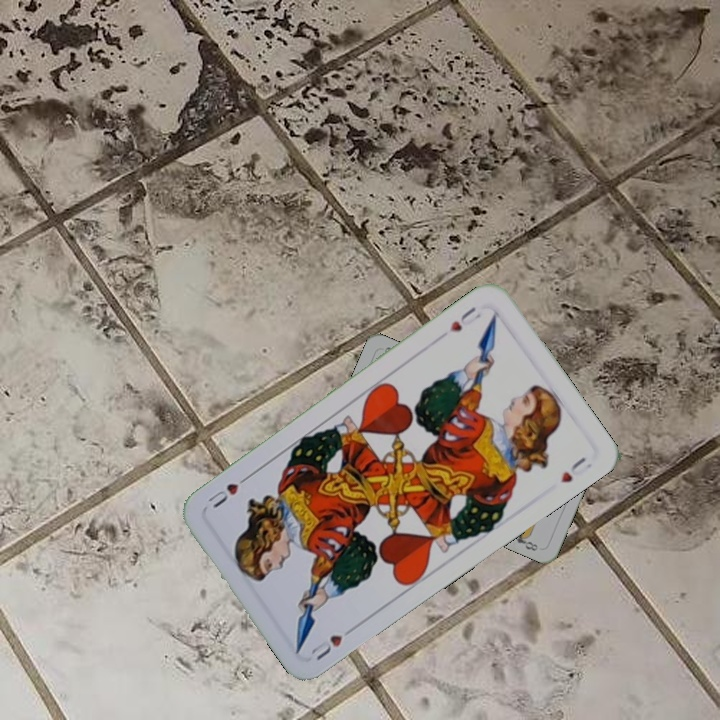HU: (306, 622, 359, 664), (445, 302, 484, 335)
